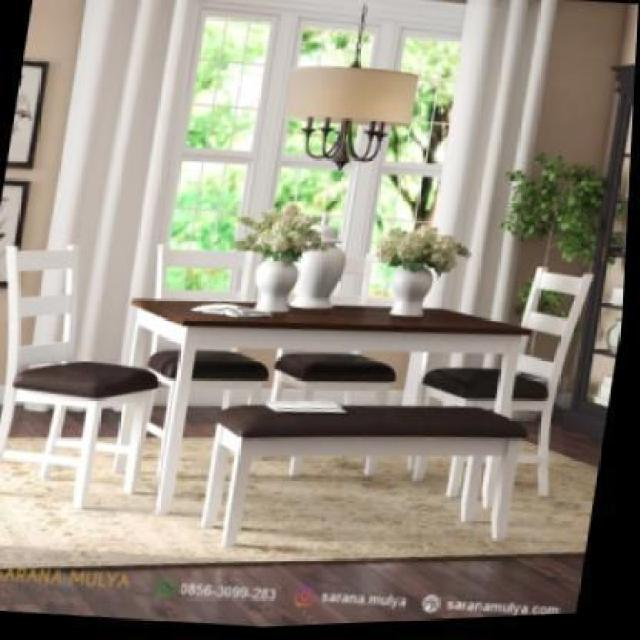tables: (128, 297, 532, 518)
